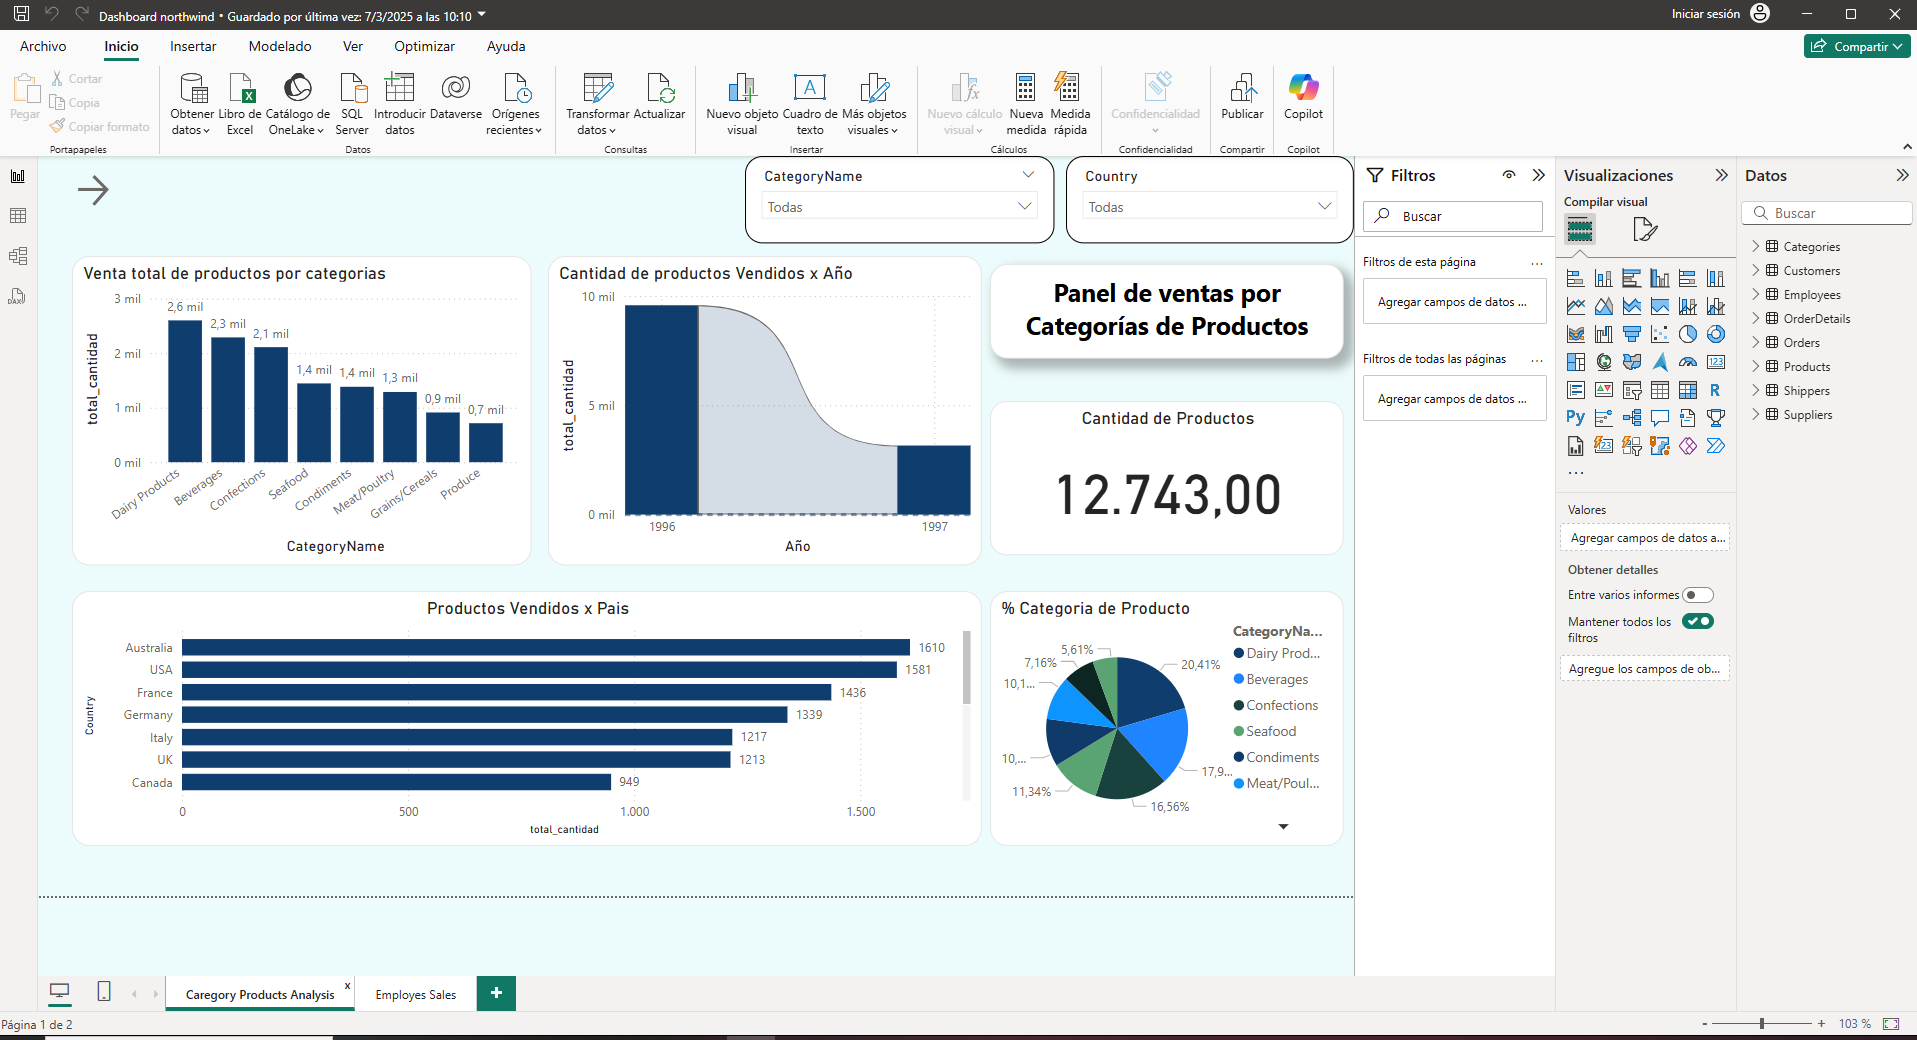

The page's visual inventory and layout, read from the dashboard file:
{"tool":"powerbi","page":{"name":"Caregory Products Analysis","canvas":[1280,720],"ordinal":0},"visuals":[{"type":"slicer","fields":{"Values":["Suppliers.Country"]},"box":[999.9,0,280.1,84.6],"z":0},{"type":"slicer","fields":{"Values":["Categories.CategoryName"]},"box":[687.7,0,300.5,84.6],"z":1000},{"type":"columnChart","title":"Venta total de productos por categorias","fields":{"Y":["OrderDetails.total_cantidad"],"Category":["Categories.CategoryName"]},"box":[33.1,97.3,447.4,300.5],"z":2000},{"type":"columnChart","title":"Cantidad de productos Vendidos x Año","fields":{"Category":["Orders.OrderDate.Variación.Jerarquía de fechas.Año"],"Y":["OrderDetails.total_cantidad"]},"box":[496,97.3,422.1,300.5],"z":3000},{"type":"clusteredBarChart","title":"Productos Vendidos x Pais","fields":{"Category":["Suppliers.Country"],"Y":["OrderDetails.total_cantidad"]},"box":[33.1,423.1,885.1,248],"z":4000},{"type":"card","title":"Cantidad de Productos","fields":{"Values":["OrderDetails.total_cantidad"]},"box":[926,238.3,344.3,149.8],"z":5000},{"type":"textbox","box":[926,105,344.3,92.4],"z":6000},{"type":"pieChart","title":"% Categoria de Producto","fields":{"Category":["Categories.CategoryName"],"Y":["OrderDetails.total_cantidad"]},"box":[926,423.1,344.3,248],"z":7000},{"type":"actionButton","box":[33.1,13.6,45.7,39.9],"z":7001}]}

Visuals, with their boxes on the page's 1280x720 design canvas (x1, y1, x2, y2). These are canvas units, not pixel positions in the 1917x1040 screenshot, which may show the page scaled, cropped or inside an application window:
slicer - Suppliers.Country: detection(1000, 0, 1280, 85)
slicer - Categories.CategoryName: detection(688, 0, 988, 85)
"Venta total de productos por categorias" columnChart: detection(33, 97, 480, 398)
"Cantidad de productos Vendidos x Año" columnChart: detection(496, 97, 918, 398)
"Productos Vendidos x Pais" clusteredBarChart: detection(33, 423, 918, 671)
"Cantidad de Productos" card: detection(926, 238, 1270, 388)
textbox: detection(926, 105, 1270, 197)
"% Categoria de Producto" pieChart: detection(926, 423, 1270, 671)
actionButton: detection(33, 14, 79, 54)
